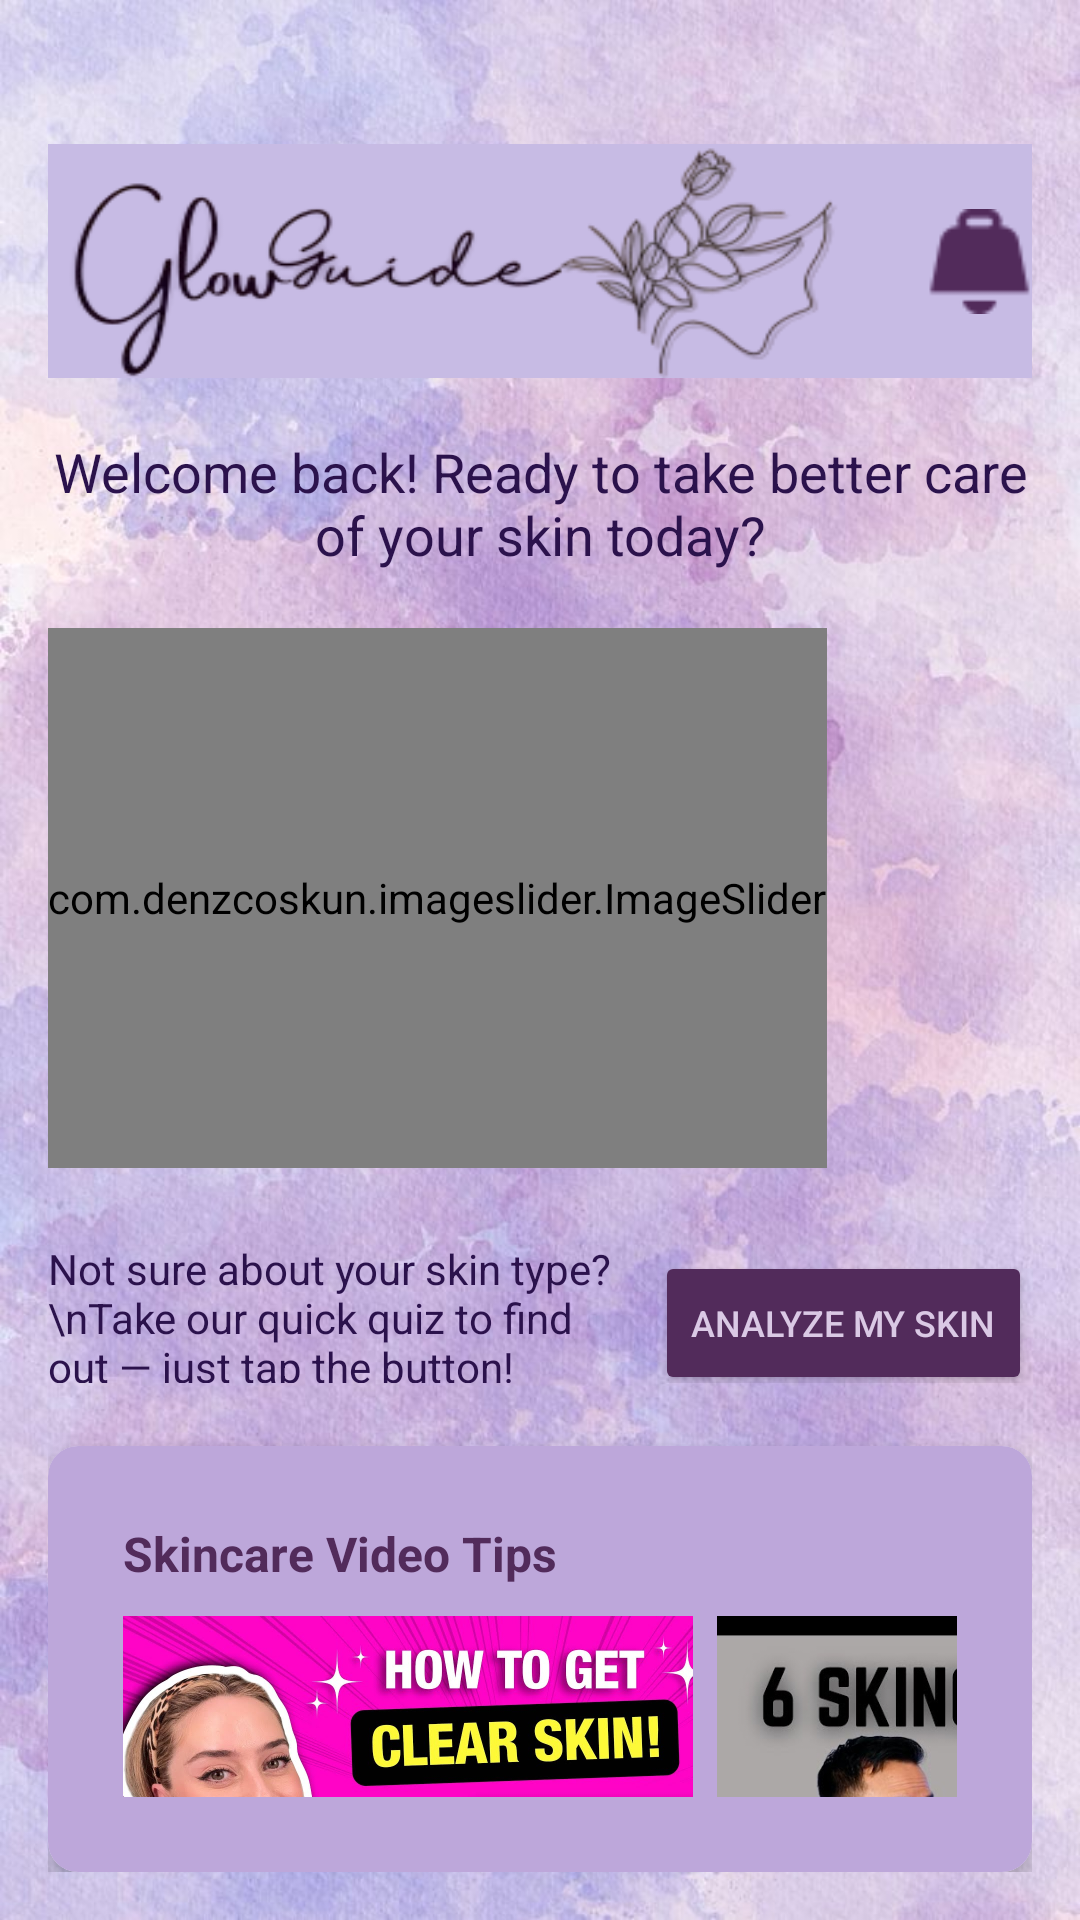

Locate icon controls on the screen. Image size 1080px×1920px, boxes as [left=x1, top=y1, right=x2, bottom=y2].
Notification: [left=929, top=209, right=1030, bottom=314]
